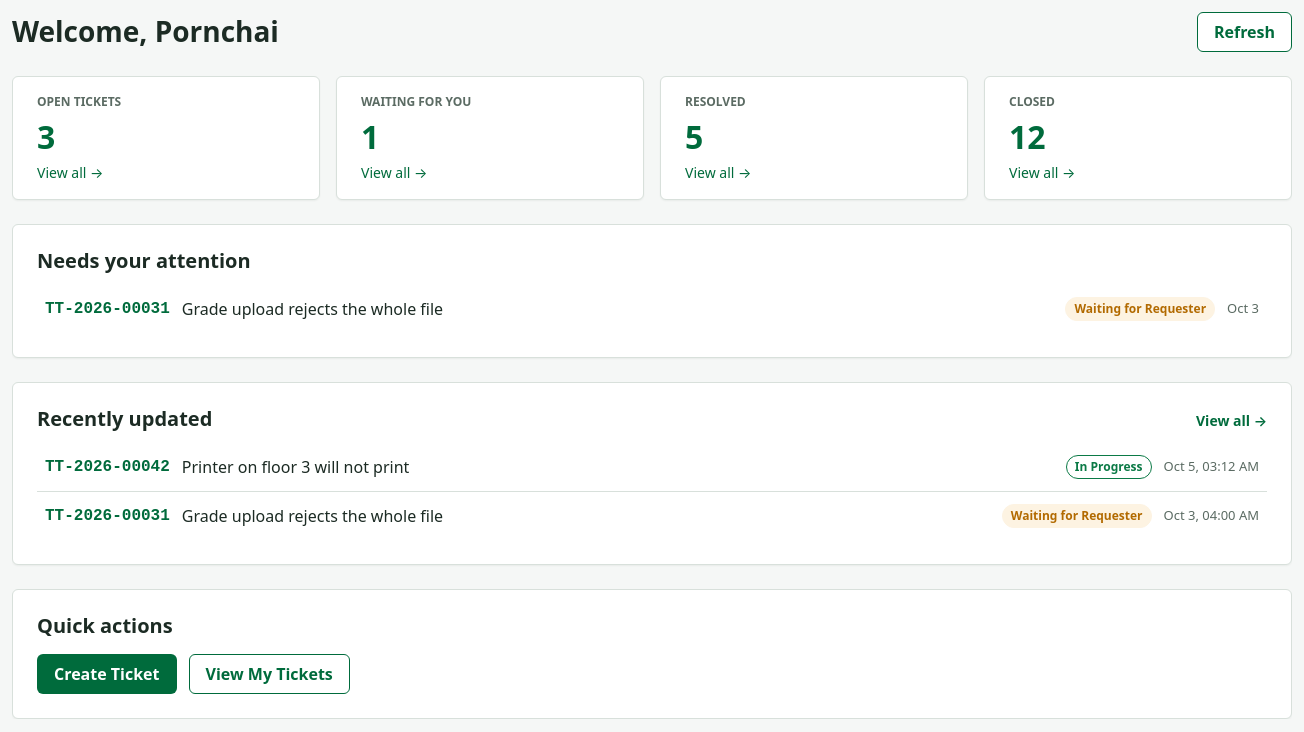
it: UI-21 loading, forbidden, failure, and Refresh (AC-22, FR-20, ui-spec §3.5) › offers Refresh, which asks again, is busy and disabled while it waits, and takes only one request
Expected: the link with aria-label "Open Tickets: " is shown, [12,76,320,200]
Click the button "Refresh". click: (1244, 32)
box: [1197,12,1292,52]
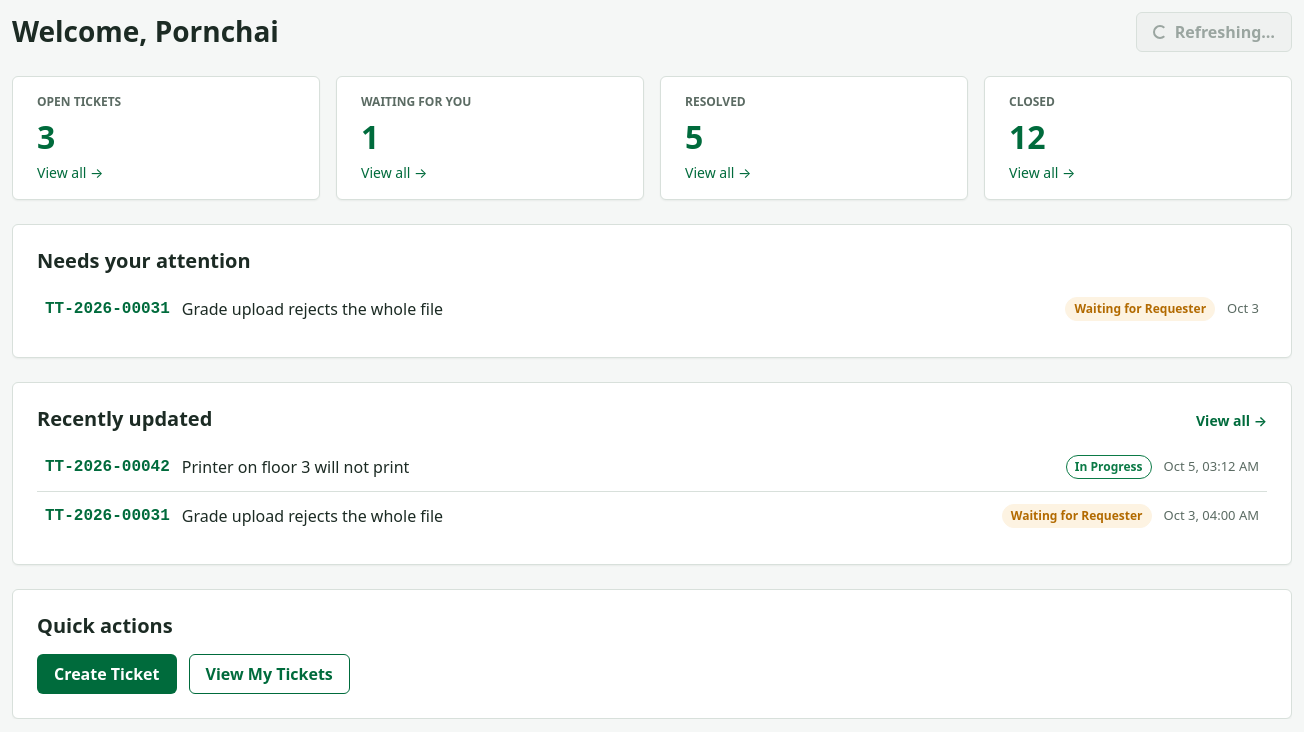
Result: the button "Refreshing…" is disabled
Click the button "Refreshing…". click: (1214, 32)
box: [1136,12,1292,52]
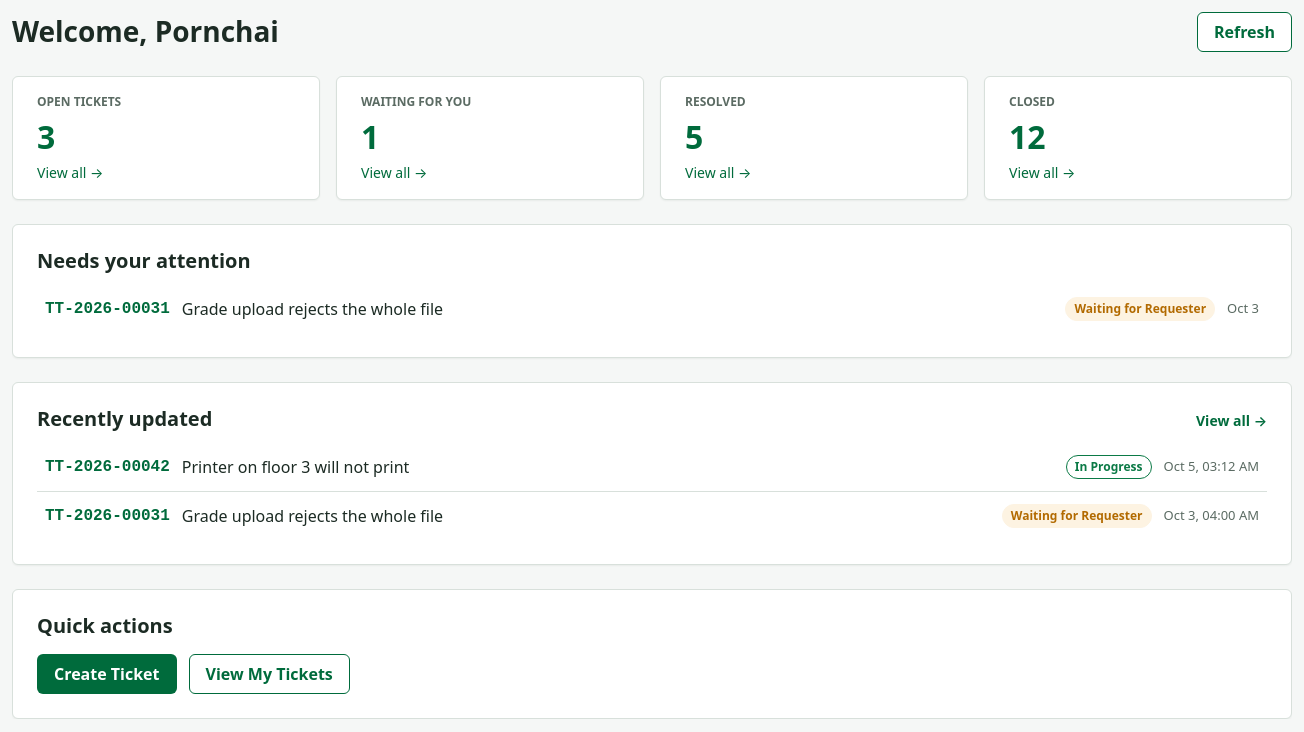
Result: the button "Refresh" is enabled at [1197,12,1292,52]
